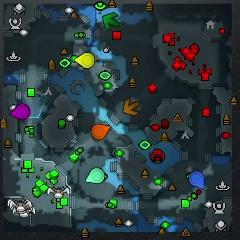p1: (189, 171, 205, 189)
p2: (85, 168, 105, 184)
p3: (9, 104, 30, 119)
p4: (74, 52, 95, 68)
p5: (90, 124, 111, 140)
x4: (102, 13, 119, 28)
x5: (124, 100, 140, 115)
